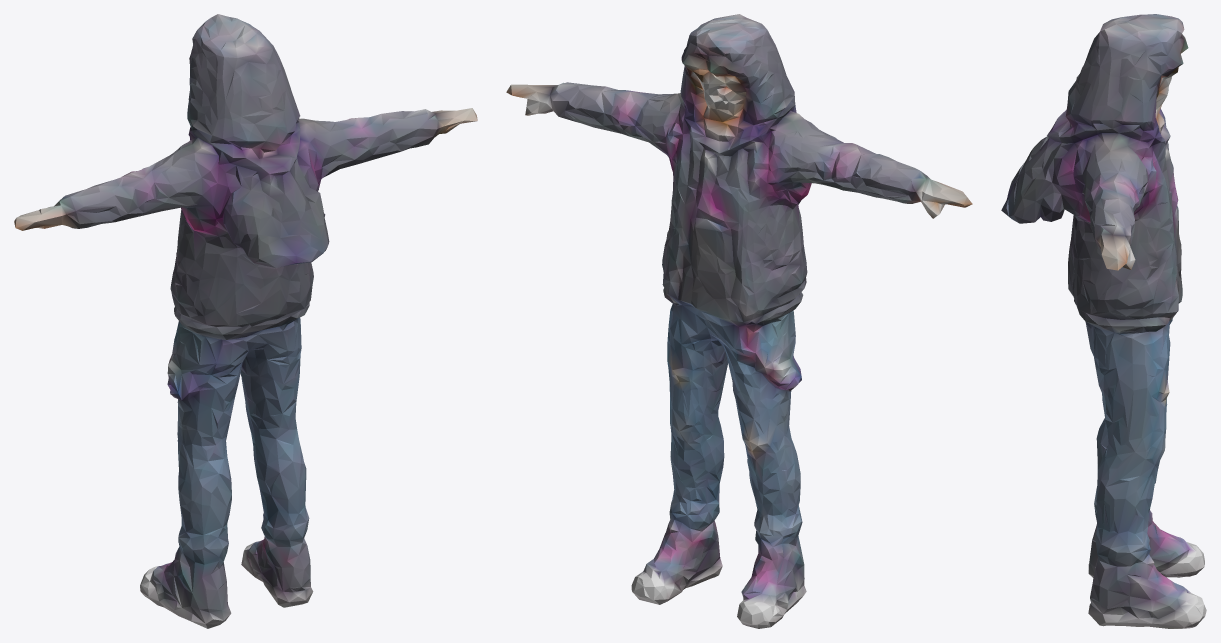
The model's file is character.glb.
The picture shows the model from 3 angles, left to right: view 1: azimuth 30°, elevation 25°; view 2: azimuth 150°, elevation 25°; view 3: azimuth 270°, elevation 25°; orthographic projection.
Visible parts, largest first — view 1: world; view 2: world; view 3: world.
Part boxes in pixels (x1,y1,x2,y2): world: [14, 14, 477, 628]; world: [506, 14, 972, 628]; world: [1001, 14, 1206, 628].
Size of the model in its own units: 1.5 by 1.78 by 0.5688.
